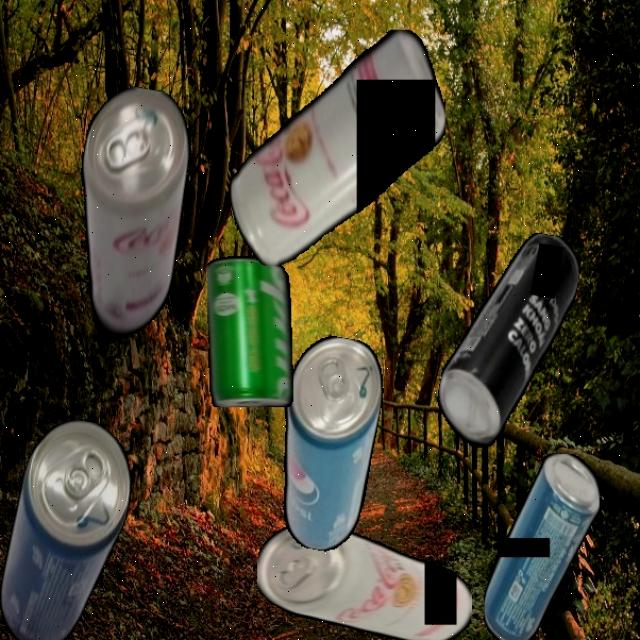debris: (228, 28, 446, 266), (51, 81, 203, 358), (430, 221, 584, 466), (0, 412, 141, 639), (263, 331, 391, 556), (257, 522, 472, 640), (482, 453, 600, 640), (208, 255, 294, 407)
